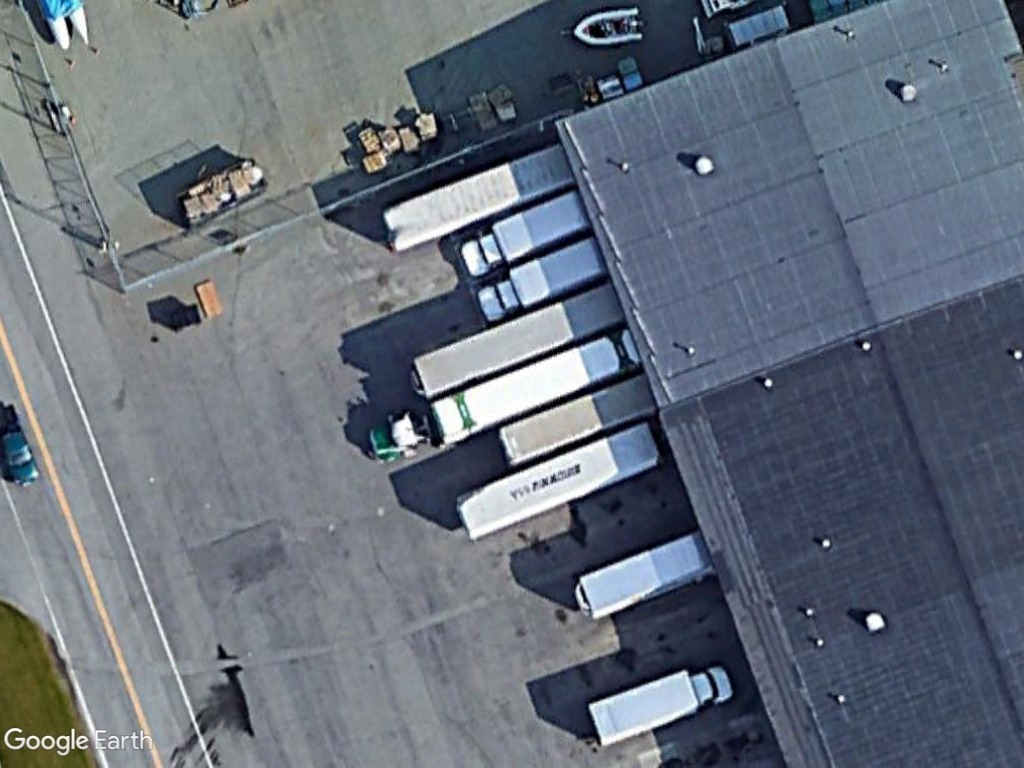boat: (567, 6, 646, 49)
longvehicle: (449, 419, 659, 546)
truck: (580, 657, 736, 752), (456, 184, 593, 288), (475, 232, 608, 328)
